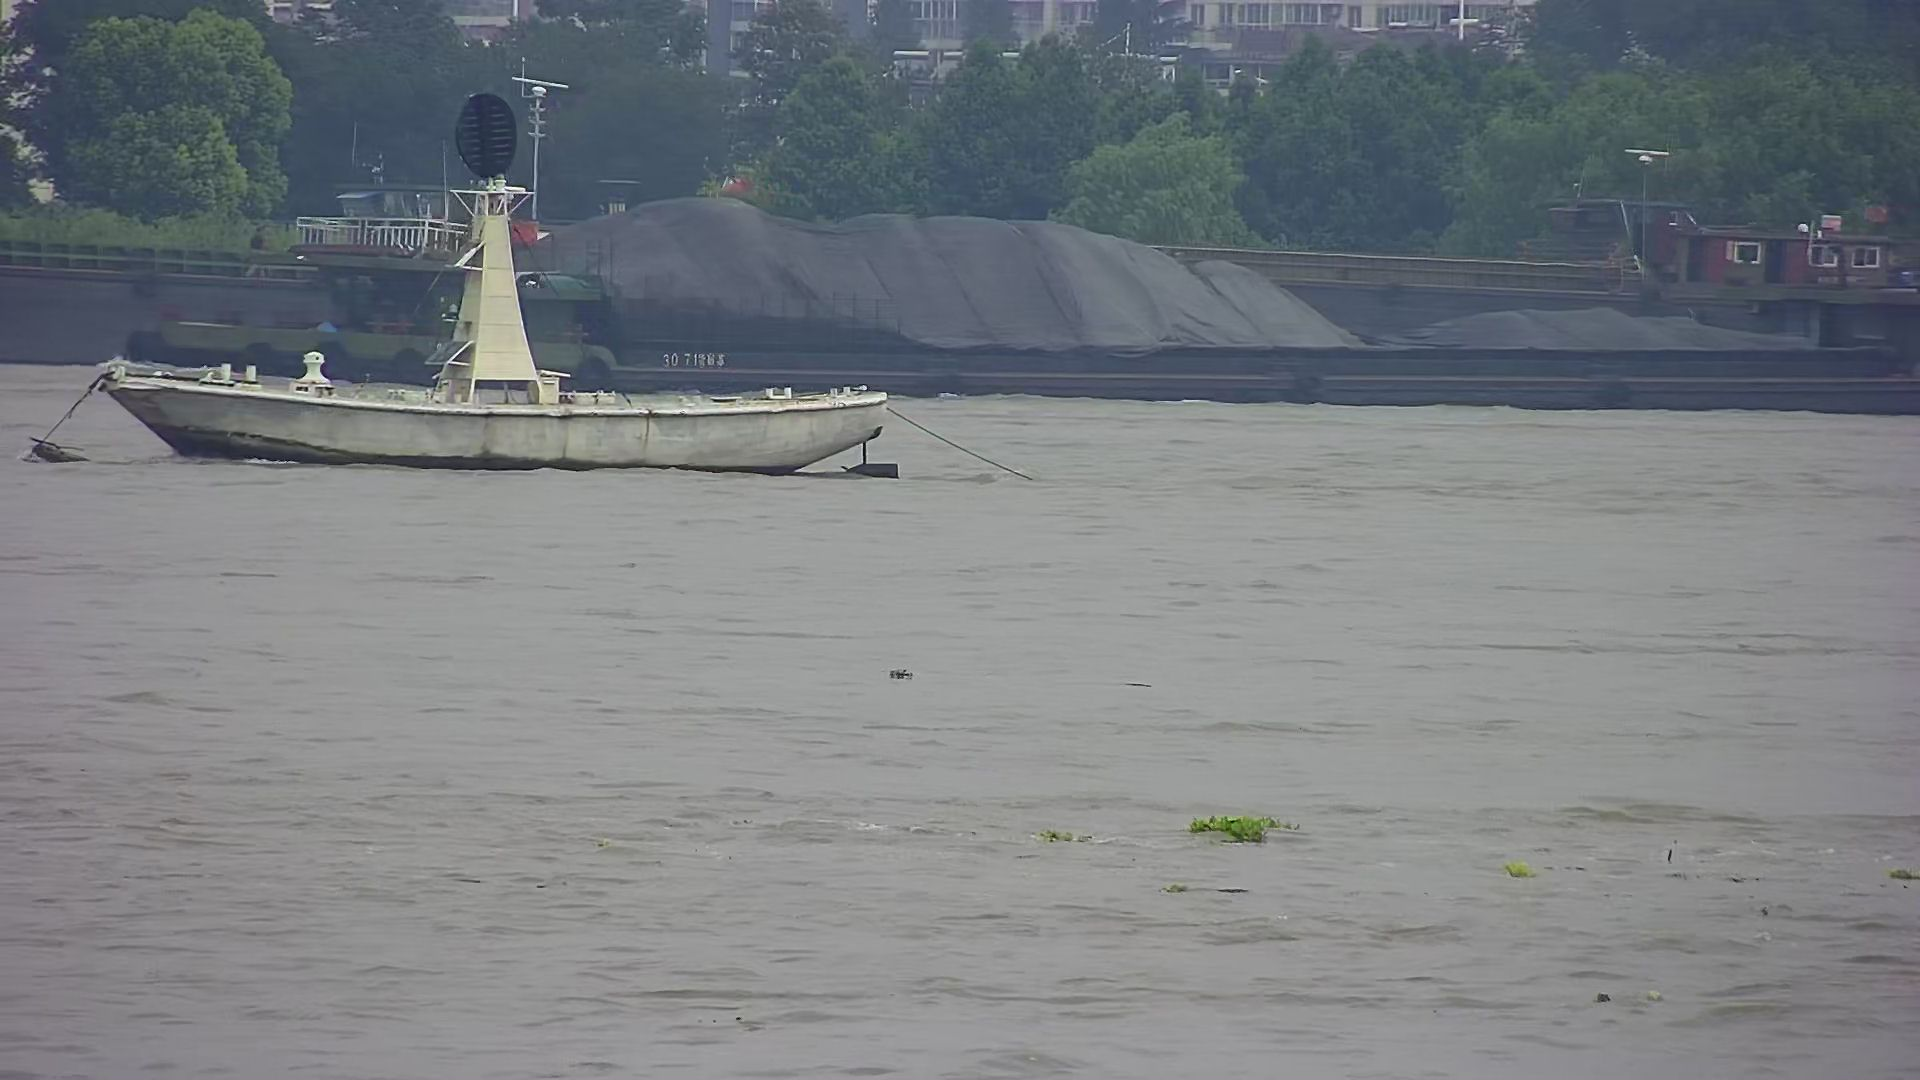boat: (111, 87, 903, 473)
grass: (1185, 808, 1302, 848), (1497, 857, 1536, 880)
ship: (128, 253, 1917, 411)
